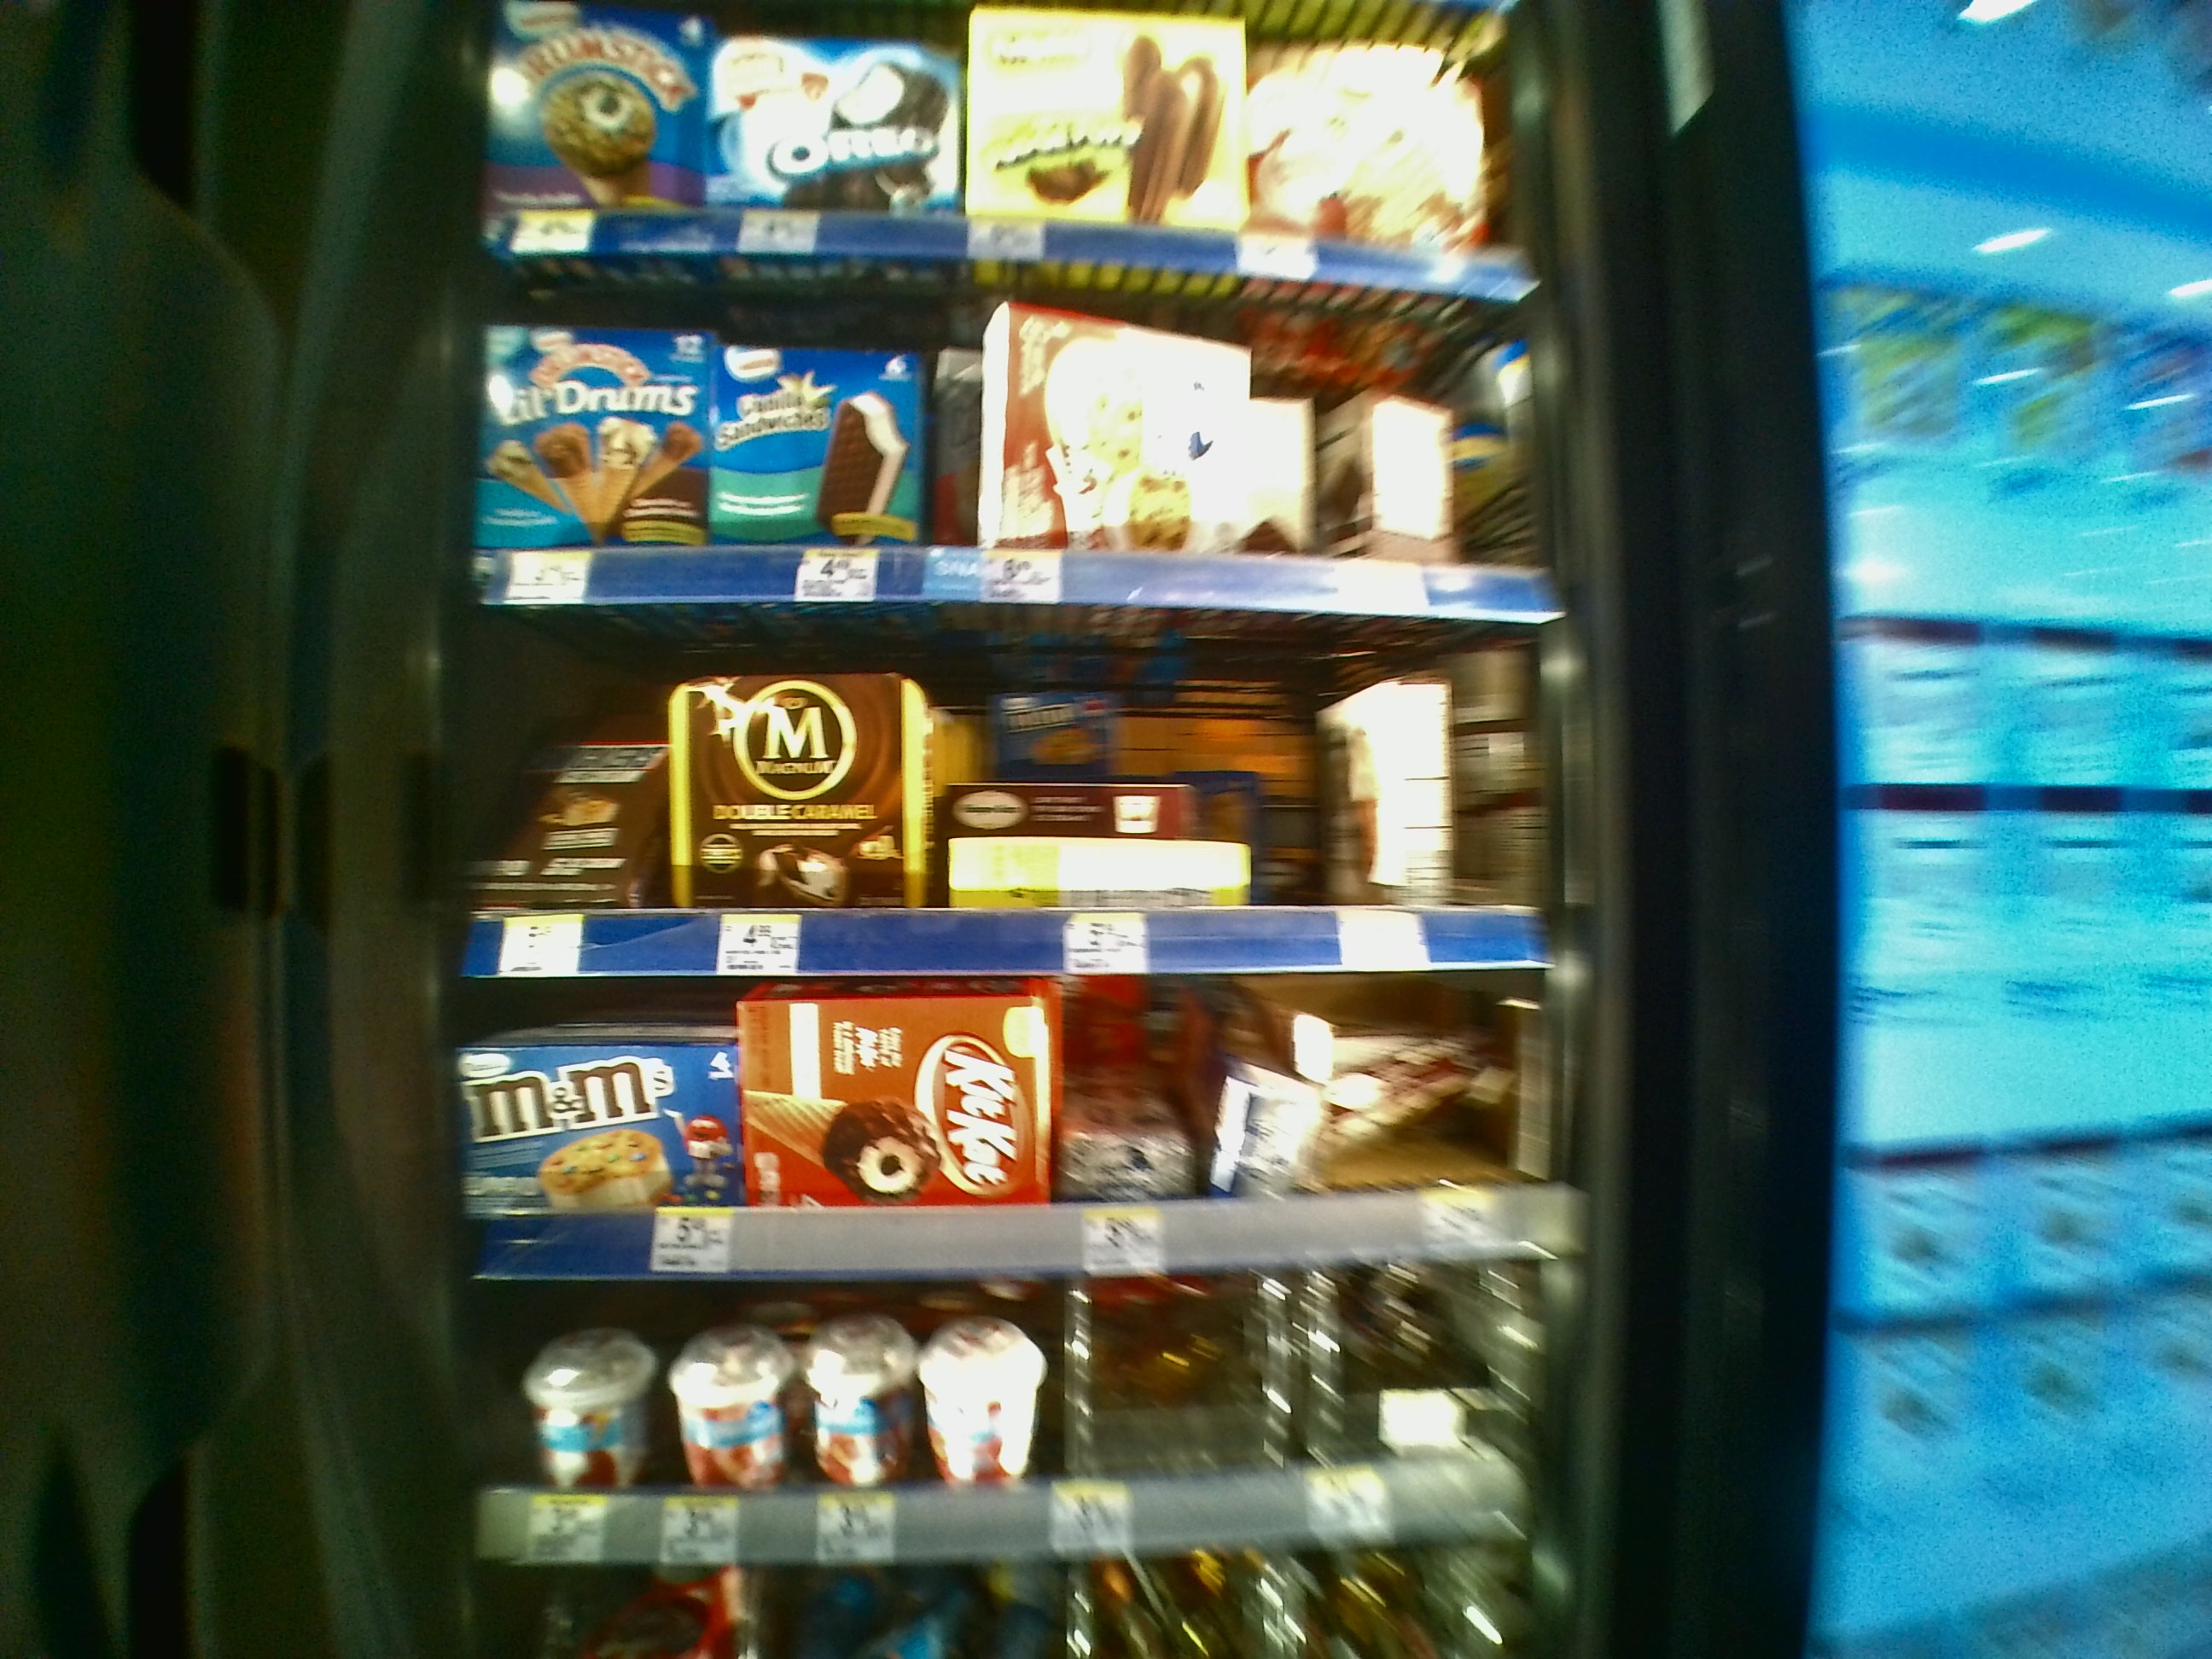shelf: (456, 619, 1561, 972), (467, 260, 1554, 606), (456, 985, 1569, 1270), (465, 1291, 1559, 1575)
